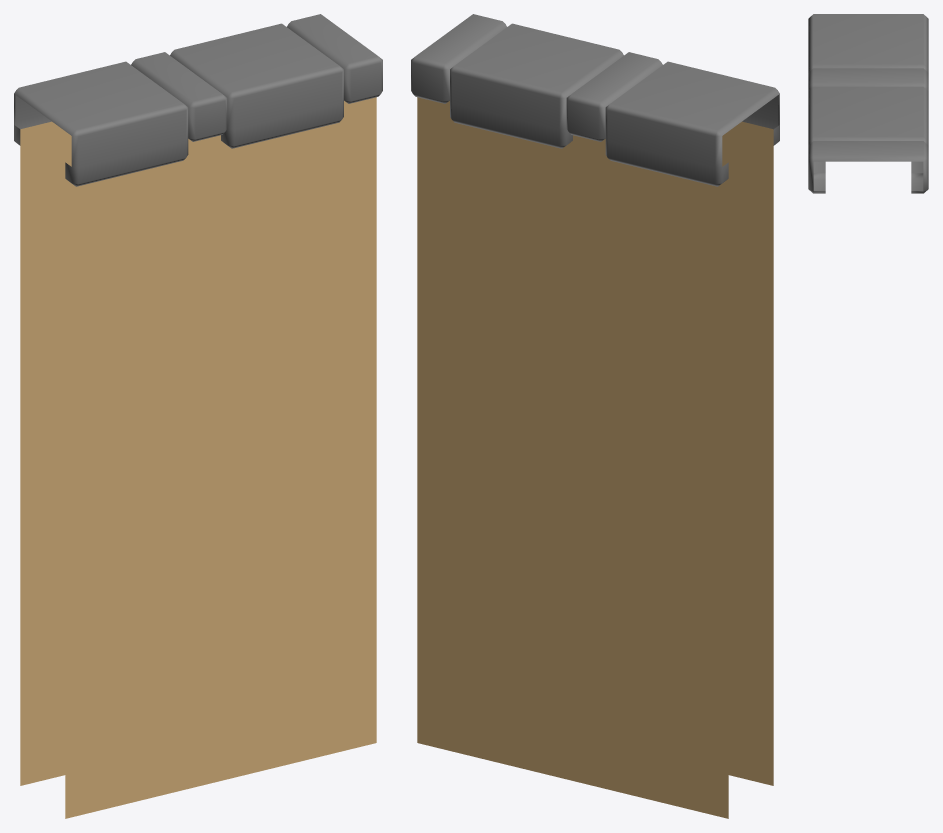
File: SM_WallA_4x8_LOD0.fbx
The picture shows the model from 3 angles, left to right: view 1: azimuth 30°, elevation 25°; view 2: azimuth 150°, elevation 25°; view 3: azimuth 270°, elevation 25°; orthographic projection. The views are drawn at different scales.
Visible parts, largest first — view 1: SM_WallA_4x8_LOD0; view 2: SM_WallA_4x8_LOD0; view 3: SM_WallA_4x8_LOD0.
Boxes of the visible parts, box(x1,y1,x2,y2) form: SM_WallA_4x8_LOD0: box(14, 14, 382, 818); SM_WallA_4x8_LOD0: box(411, 14, 779, 818); SM_WallA_4x8_LOD0: box(808, 14, 928, 193).
Bounding box in the file's own units: 4 × 8.5 × 1.4.
